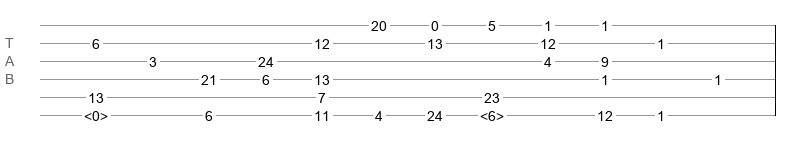0: (431, 18, 439, 28)
1: (544, 18, 552, 28), (601, 72, 609, 82), (601, 18, 609, 28), (657, 108, 665, 118), (657, 36, 665, 46), (714, 72, 722, 82)
11: (314, 108, 330, 118)
12: (314, 36, 330, 46), (540, 36, 556, 46), (597, 108, 613, 118)
13: (88, 90, 104, 100), (314, 72, 330, 82), (427, 36, 443, 46)
20: (371, 18, 387, 28)
21: (201, 72, 217, 82)
23: (484, 90, 500, 100)
24: (258, 54, 274, 64), (427, 108, 443, 118)
3: (149, 54, 157, 64)
4: (375, 108, 383, 118), (544, 54, 552, 64)
5: (488, 18, 496, 28)
6: (92, 36, 100, 46), (205, 108, 213, 118), (262, 72, 270, 82)
7: (318, 90, 326, 100)
9: (601, 54, 609, 64)
harmonic: (84, 108, 108, 118), (480, 108, 504, 118)
